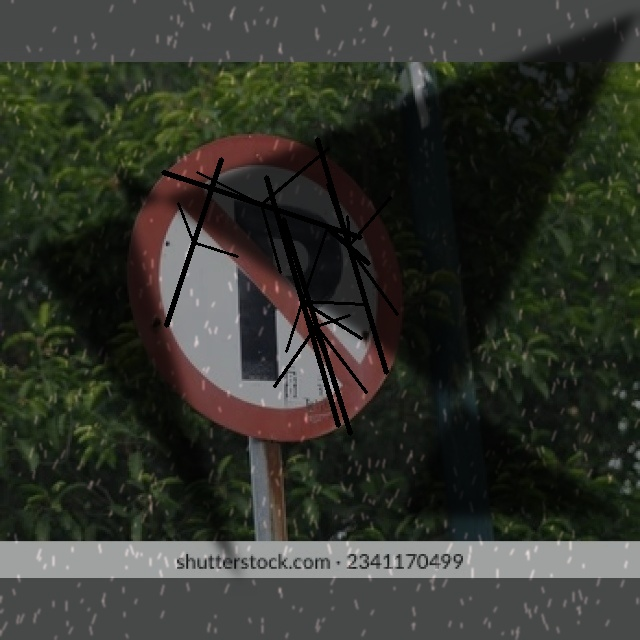No_Parking: (131, 130, 400, 438)
